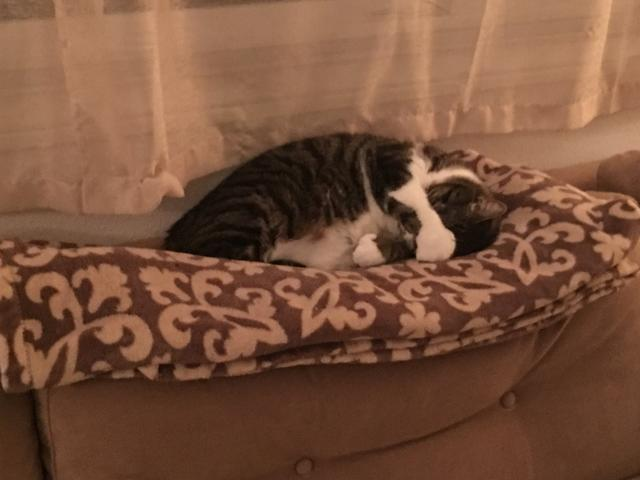playdoh: (161, 130, 510, 273)
